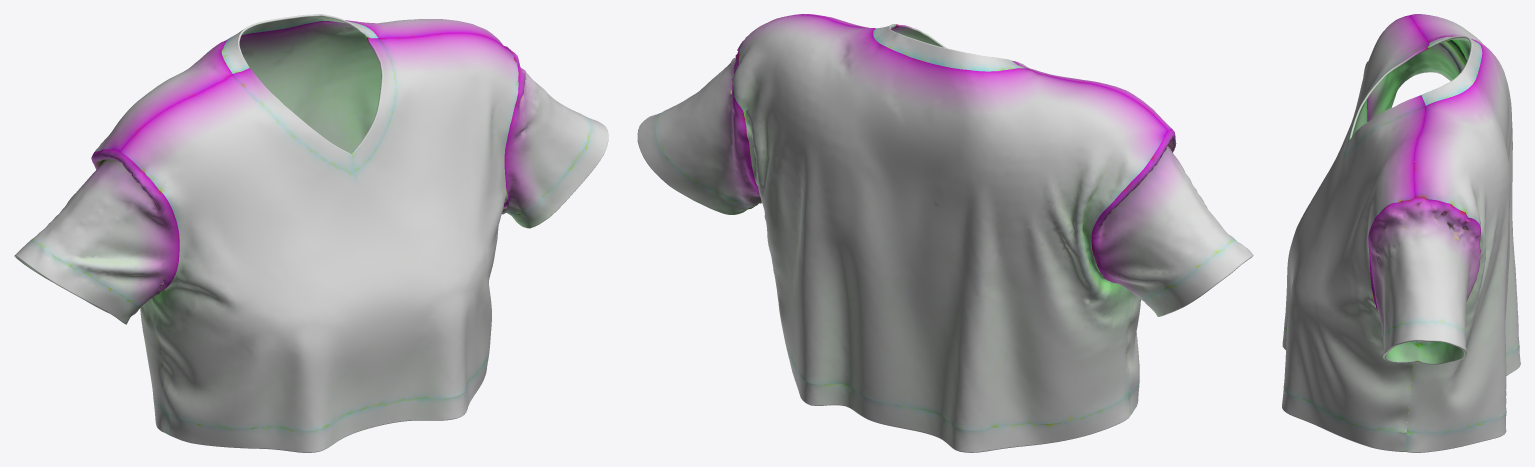
Rendered from croptee.glb.
3 renders of one model, left to right at view 1: azimuth 30°, elevation 25°; view 2: azimuth 150°, elevation 25°; view 3: azimuth 270°, elevation 25°, orthographic. The views are drawn at different scales.
Parts seen in each view (by area): view 1: front, back, sleeve_r, sleeve_l, collar; view 2: back, sleeve_r, sleeve_l, front, collar; view 3: front, back, sleeve_l, sleeve_r, collar.
Boxes of the visible parts, x1,y1,x2,y2 form: front: (120, 33, 518, 452); back: (94, 19, 508, 432); sleeve_r: (14, 149, 179, 324); sleeve_l: (502, 46, 608, 228); collar: (221, 14, 378, 73); back: (732, 14, 1167, 452); sleeve_r: (1091, 128, 1253, 316); sleeve_l: (637, 40, 761, 214); front: (798, 14, 1171, 414); collar: (873, 24, 1025, 72); front: (1282, 15, 1429, 451); back: (1405, 14, 1520, 452); sleeve_l: (1368, 197, 1480, 364); sleeve_r: (1367, 40, 1466, 121); collar: (1421, 36, 1482, 105).
Size of the model in its own units: 0.6026 by 0.36 by 0.2303.
